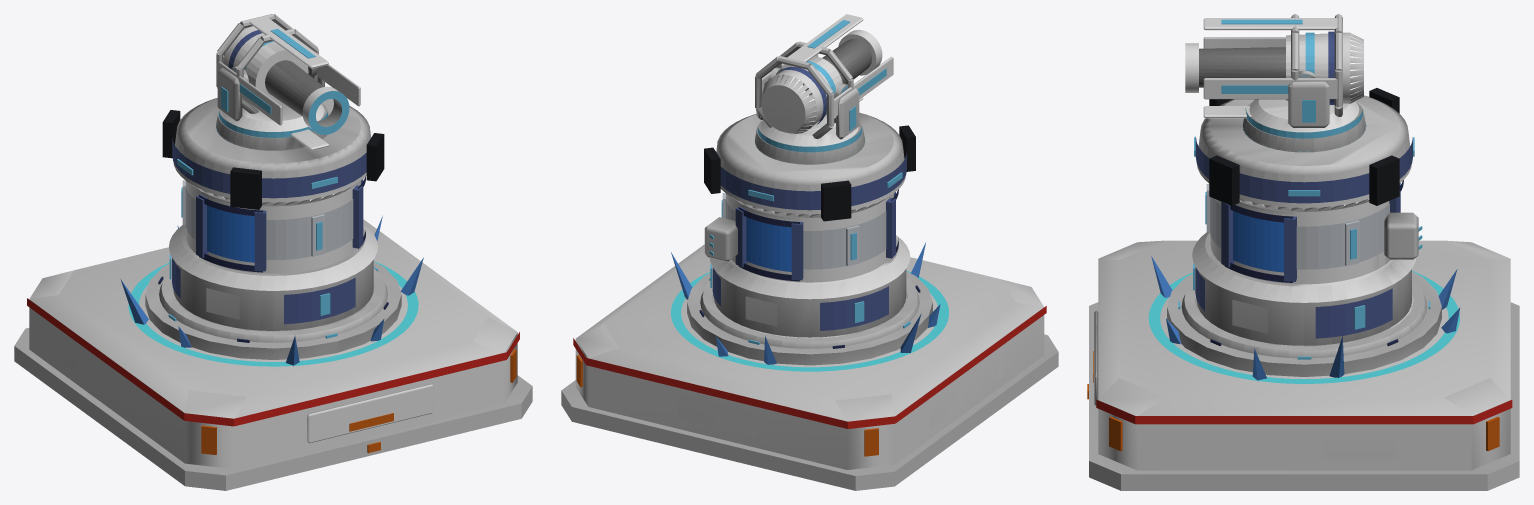
File: ice_0.glb
3 renders of one model, left to right at view 1: azimuth 30°, elevation 25°; view 2: azimuth 150°, elevation 25°; view 3: azimuth 270°, elevation 25°, orthographic. The views are drawn at different scales.
Visible parts, largest first — view 1: Rumpf, Kanone, Kopf, Kammern; view 2: Rumpf, Kanone, Kopf, Kammern; view 3: Rumpf, Kanone, Kopf, Kammern.
Boxes of the visible parts, left/top/right/bottom form: Rumpf: left=14, top=98, right=532, bottom=490; Kanone: left=216, top=14, right=360, bottom=150; Kopf: left=216, top=67, right=328, bottom=150; Kammern: left=207, top=205, right=254, bottom=262; Rumpf: left=561, top=112, right=1058, bottom=490; Kanone: left=755, top=14, right=893, bottom=138; Kopf: left=755, top=70, right=865, bottom=164; Kammern: left=746, top=193, right=895, bottom=271; Rumpf: left=1087, top=88, right=1519, bottom=490; Kanone: left=1185, top=14, right=1363, bottom=118; Kopf: left=1242, top=81, right=1366, bottom=152; Kammern: left=1233, top=183, right=1400, bottom=272.
Size of the model in its own units: 0.94 by 0.911 by 0.944.
